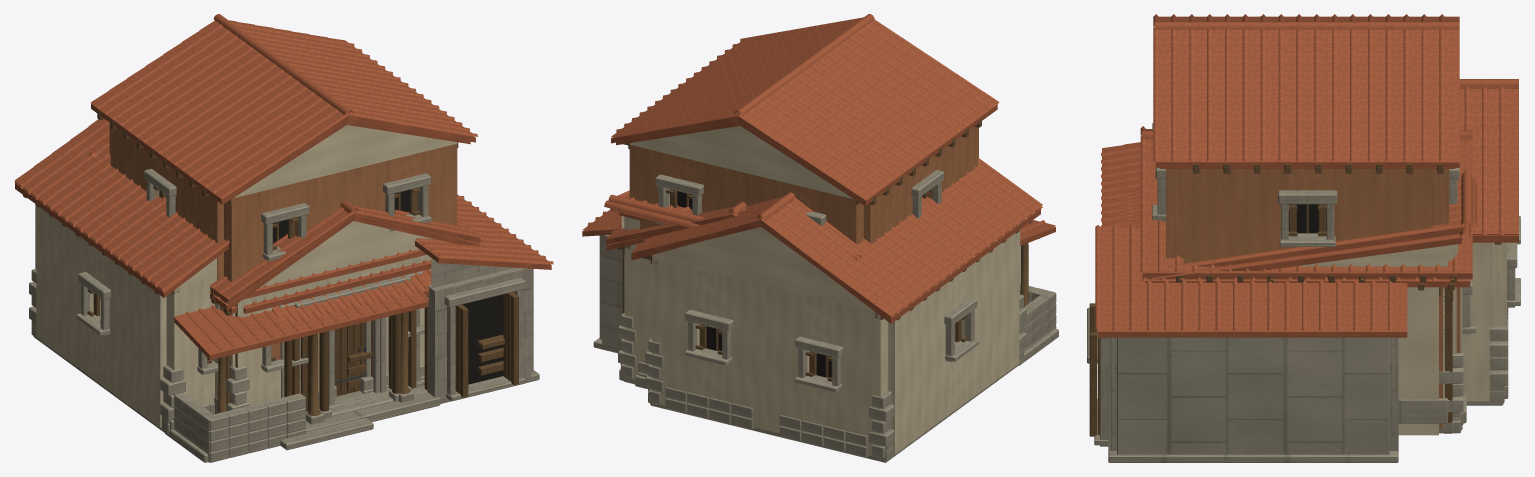
File: residential-variants.glb
The picture shows the model from 3 angles, left to right: view 1: azimuth 30°, elevation 25°; view 2: azimuth 150°, elevation 25°; view 3: azimuth 270°, elevation 25°; orthographic projection. The views are drawn at different scales.
Parts seen in each view (by area): view 1: farm-veranda, upper-weavers, farm-yard, upper-ochre, porch-lime, taberna-tiled, workshop-open, porch-merchant, workshop-portico, taberna-linen; view 2: farm-veranda, farm-yard, upper-weavers, upper-ochre, porch-lime, taberna-tiled, workshop-open; view 3: farm-veranda, upper-weavers, upper-ochre, workshop-portico, porch-lime, farm-yard, taberna-tiled, porch-merchant.
Boxes of the visible parts, x1=… form: farm-veranda: x1=14, y1=119, x2=553, y2=462; upper-weavers: x1=90, y1=14, x2=477, y2=255; farm-yard: x1=14, y1=123, x2=305, y2=462; upper-ochre: x1=97, y1=113, x2=470, y2=376; porch-lime: x1=210, y1=200, x2=482, y2=418; taberna-tiled: x1=89, y1=152, x2=463, y2=399; workshop-open: x1=243, y1=260, x2=431, y2=411; porch-merchant: x1=209, y1=207, x2=481, y2=411; workshop-portico: x1=211, y1=271, x2=430, y2=413; taberna-linen: x1=228, y1=260, x2=420, y2=411; farm-veranda: x1=582, y1=161, x2=1058, y2=462; farm-yard: x1=631, y1=157, x2=1056, y2=454; upper-weavers: x1=611, y1=14, x2=999, y2=216; upper-ochre: x1=616, y1=121, x2=981, y2=244; porch-lime: x1=606, y1=202, x2=746, y2=379; taberna-tiled: x1=608, y1=190, x2=861, y2=384; workshop-open: x1=620, y1=204, x2=700, y2=389; farm-veranda: x1=1087, y1=79, x2=1520, y2=462; upper-weavers: x1=1153, y1=14, x2=1459, y2=241; upper-ochre: x1=1152, y1=123, x2=1459, y2=412; workshop-portico: x1=1128, y1=196, x2=1470, y2=435; porch-lime: x1=1140, y1=126, x2=1476, y2=427; farm-yard: x1=1459, y1=87, x2=1518, y2=401; taberna-tiled: x1=1120, y1=169, x2=1472, y2=430; porch-merchant: x1=1142, y1=138, x2=1473, y2=427.
Size of the model in its own units: 8.19 by 6.48 by 7.4.
Materials: 1 (1 with a texture image).
